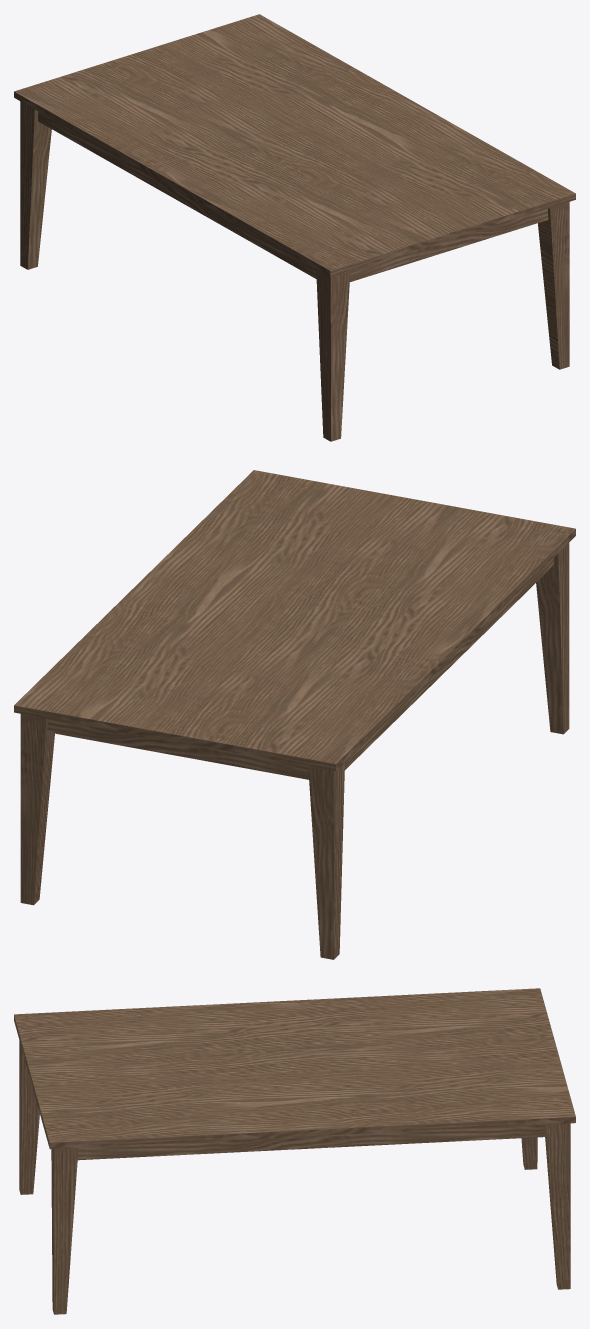
The picture shows the model from 3 angles, top to bottom: view 1: azimuth 30°, elevation 25°; view 2: azimuth 150°, elevation 25°; view 3: azimuth 270°, elevation 25°; orthographic projection. The views are drawn at different scales.
Visible parts, largest first — view 1: Table_13003_Wood_08003_0; view 2: Table_13003_Wood_08003_0; view 3: Table_13003_Wood_08003_0.
Part boxes in pixels (box(x1,y1,x2,y2)): Table_13003_Wood_08003_0: box(14, 14, 575, 441); Table_13003_Wood_08003_0: box(14, 470, 575, 959); Table_13003_Wood_08003_0: box(14, 988, 575, 1314).
Size of the model in its own units: 1.56 by 0.8168 by 2.4.
1 material, 1 textured.
